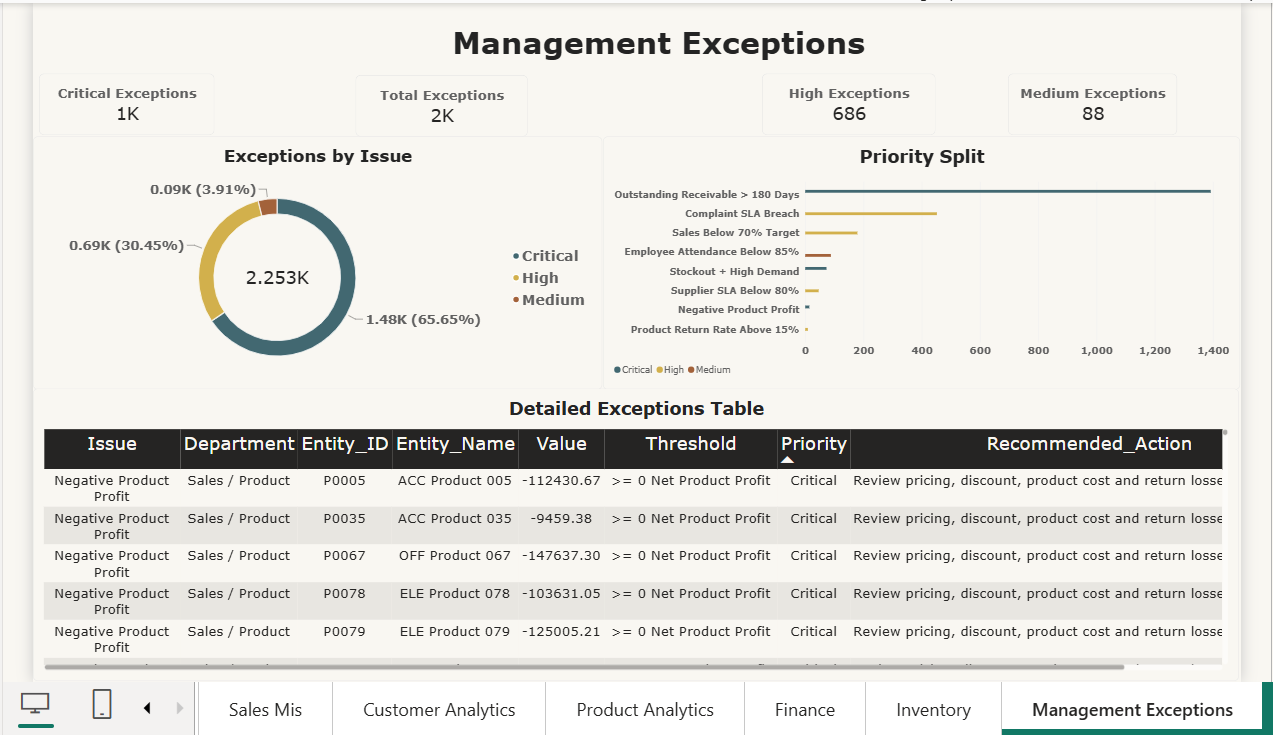

The page's visual inventory and layout, read from the dashboard file:
{"tool":"powerbi","page":{"name":"Management Exceptions","canvas":[1920,1080],"ordinal":6},"visuals":[{"type":"cardVisual","fields":{"Data":["Measures (2).Critical Exceptions"]},"box":[10.1,113.2,279.2,98.1],"z":0},{"type":"cardVisual","fields":{"Data":["Measures (2).Medium Exceptions"]},"box":[1551.9,113.2,269.1,98.1],"z":1000},{"type":"cardVisual","fields":{"Data":["Measures (2).Total Exceptions"]},"box":[513.1,115.7,274.2,98.1],"z":2000},{"type":"cardVisual","fields":{"Data":["Measures (2).High Exceptions"]},"box":[1159.6,113.2,276.7,98.1],"z":3000},{"type":"clusteredBarChart","title":"Priority Split","fields":{"Category":["Management Exceptions.Issue"],"Y":["CountNonNull(Management Exceptions.Entity_ID)"],"Series":["Management Exceptions.Priority"]},"box":[905.5,211.3,1013.7,402.4],"z":4000},{"type":"donutChart","title":"Exceptions by Issue","fields":{"Category":["Management Exceptions.Priority"],"Y":["CountNonNull(Management Exceptions.Entity_ID)"]},"box":[0,211.3,905.5,402.4],"z":5000},{"type":"tableEx","title":"Detailed Exceptions Table","fields":{"Values":["Management Exceptions.Issue","Management Exceptions.Department","Management Exceptions.Entity_ID","Management Exceptions.Entity_Name","Management Exceptions.Value","Management Exceptions.Threshold","Management Exceptions.Priority","Management Exceptions.Recommended_Action"]},"box":[0,613.7,1919.2,465.3],"z":6000},{"type":"textbox","box":[593.6,17.6,802.4,95.6],"z":7000}]}

Visuals, with their boxes on the page's 1920x1080 design canvas (x1, y1, x2, y2). These are canvas units, not pixel positions in the 1273x735 screenshot, which may show the page scaled, cropped or inside an application window:
cardVisual - Measures (2).Critical Exceptions: {"left": 10, "top": 113, "right": 289, "bottom": 211}
cardVisual - Measures (2).Medium Exceptions: {"left": 1552, "top": 113, "right": 1821, "bottom": 211}
cardVisual - Measures (2).Total Exceptions: {"left": 513, "top": 116, "right": 787, "bottom": 214}
cardVisual - Measures (2).High Exceptions: {"left": 1160, "top": 113, "right": 1436, "bottom": 211}
"Priority Split" clusteredBarChart: {"left": 906, "top": 211, "right": 1919, "bottom": 614}
"Exceptions by Issue" donutChart: {"left": 0, "top": 211, "right": 906, "bottom": 614}
"Detailed Exceptions Table" tableEx: {"left": 0, "top": 614, "right": 1919, "bottom": 1079}
textbox: {"left": 594, "top": 18, "right": 1396, "bottom": 113}
